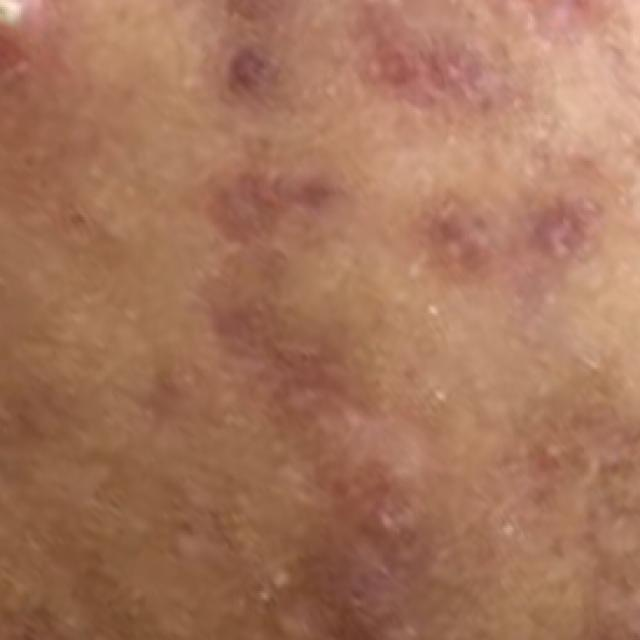acne: (194, 262, 395, 460), (257, 488, 486, 640), (425, 156, 607, 304), (484, 0, 622, 84), (196, 0, 289, 114), (0, 0, 65, 112)
